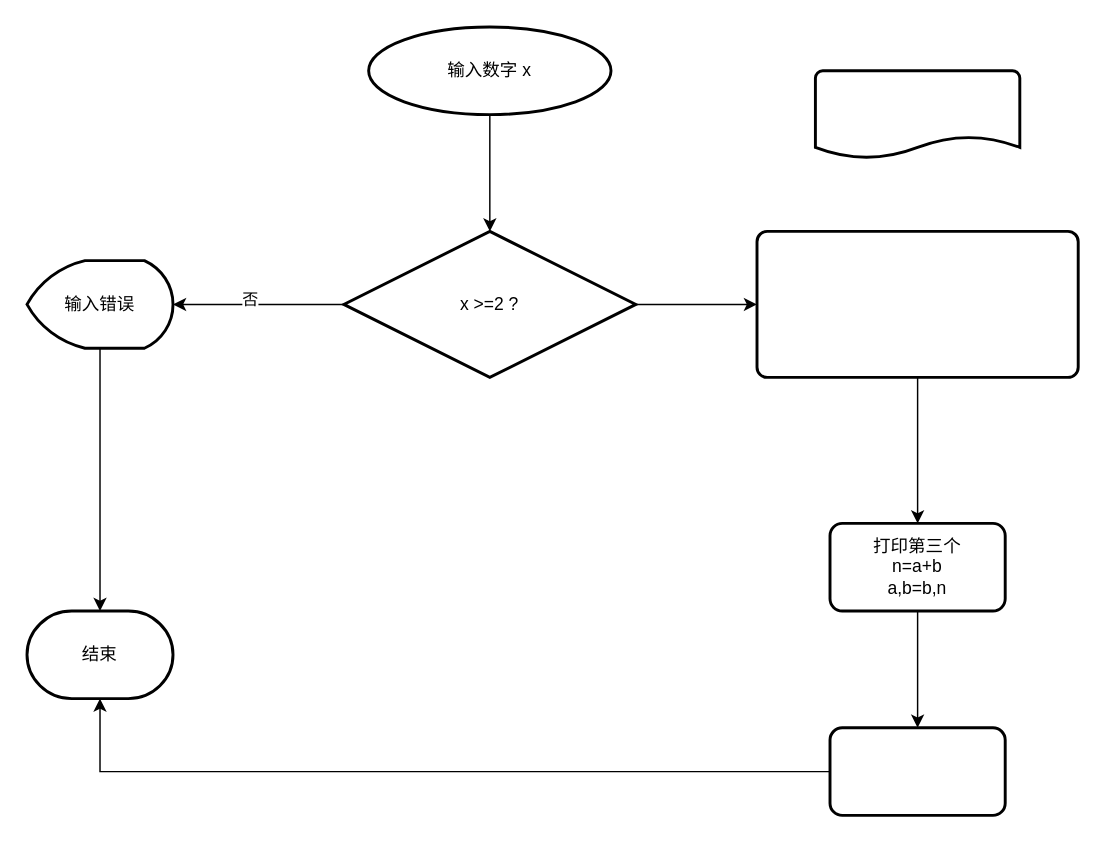
Image size: 1104x841. Some labels were removed from this diagram. Here are the shapes that lost their labels. From the top down, the box of each, then its label:
(813, 69, 1021, 159): 从1,2,...x逐个打印 第n个的值为 f(n-1)+f(n-2)
(755, 229, 1079, 378): 打印第一个和第二个Fibonacci数字 a=0 b=1
(828, 726, 1006, 816): 重复直到n等于x
